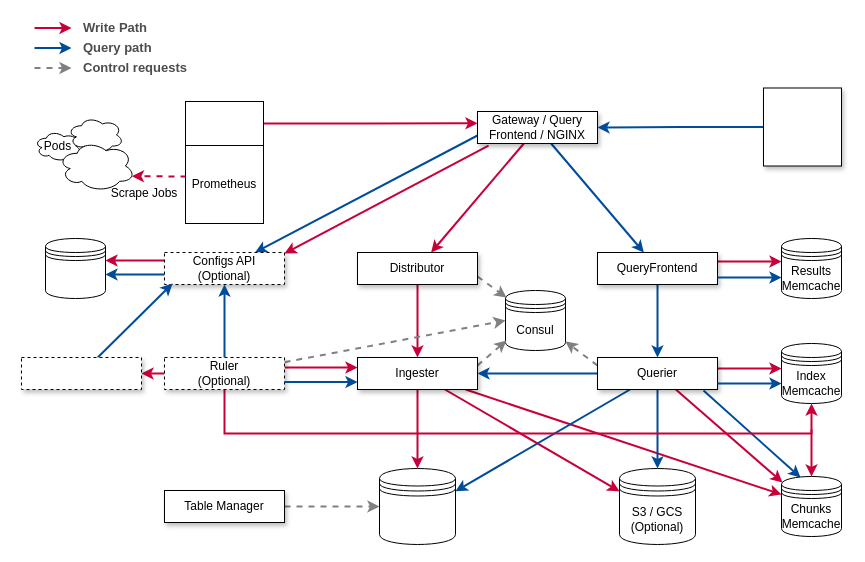
Image size: 865x562. Some labels were removed from this diagram. The centre of each missing label's shape, as x and y in pixels:
Alertmanager Optional): [82,374]
BigTable / Cassandra / DynamoDB: [417,506]
Grafana: [803,128]
Ingresses: [96,166]
Nodes: [95,135]
Postgres: [75,268]
Remote Write API: [224,123]
